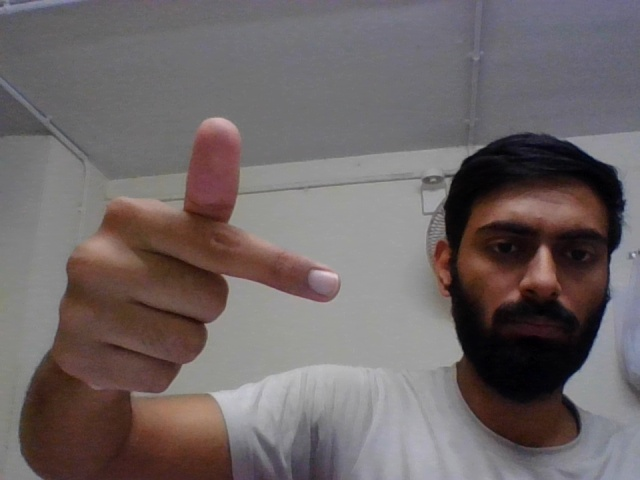T: (47, 113, 350, 396)
